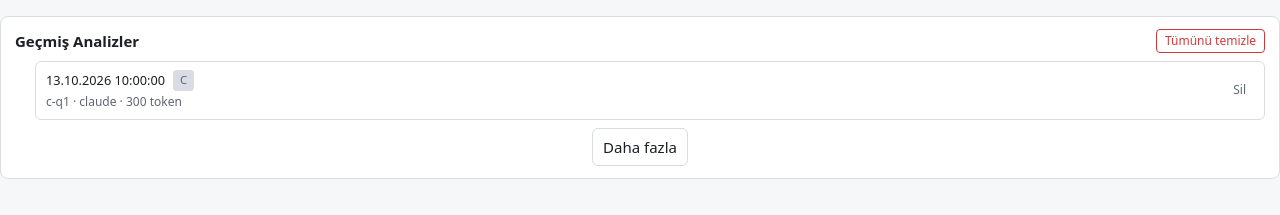
Test: HistoryPanel › 'Daha fazla' düğmesi sonraki sayfayı ekler
Expected: the text "c-q1" is shown, [46,93,70,110]
Click the button "Daha fazla" at [640, 147], box [592,128,688,166]
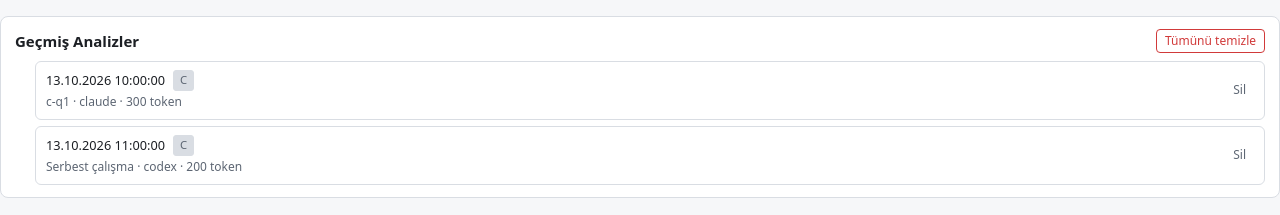
Expected: the text "Serbest çalışma" is shown, [46,158,134,175]
Expected: the button "Daha fazla" is gone
